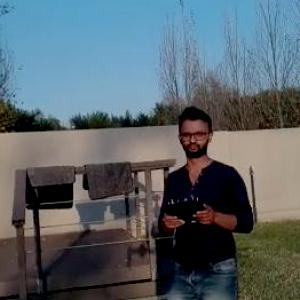follow: (156, 101, 262, 299)
